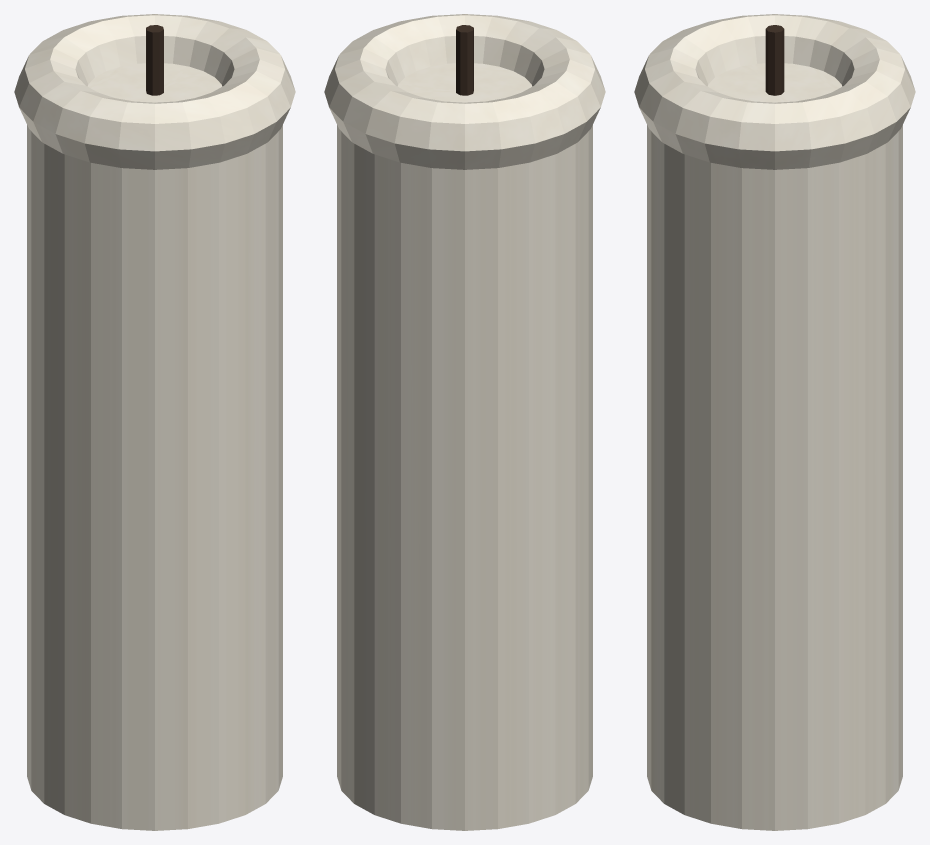
File: candle_mid.glb
3 renders of one model, left to right at view 1: azimuth 30°, elevation 25°; view 2: azimuth 150°, elevation 25°; view 3: azimuth 270°, elevation 25°, orthographic.
Parts seen in each view (by area): view 1: Wax, MeltRim, Wick; view 2: Wax, MeltRim, Wick; view 3: Wax, MeltRim, Wick.
Boxes of the visible parts, box(x1,y1,x2,y2) form: Wax: box(27, 63, 282, 830); MeltRim: box(14, 14, 295, 169); Wick: box(146, 25, 163, 95); Wax: box(337, 63, 592, 830); MeltRim: box(324, 14, 605, 169); Wick: box(456, 25, 473, 95); Wax: box(647, 63, 902, 830); MeltRim: box(634, 14, 915, 169); Wick: box(765, 25, 784, 95).
Size of the model in its own units: 0.0484 by 0.142 by 0.0484.
2 materials, 1 textured.
